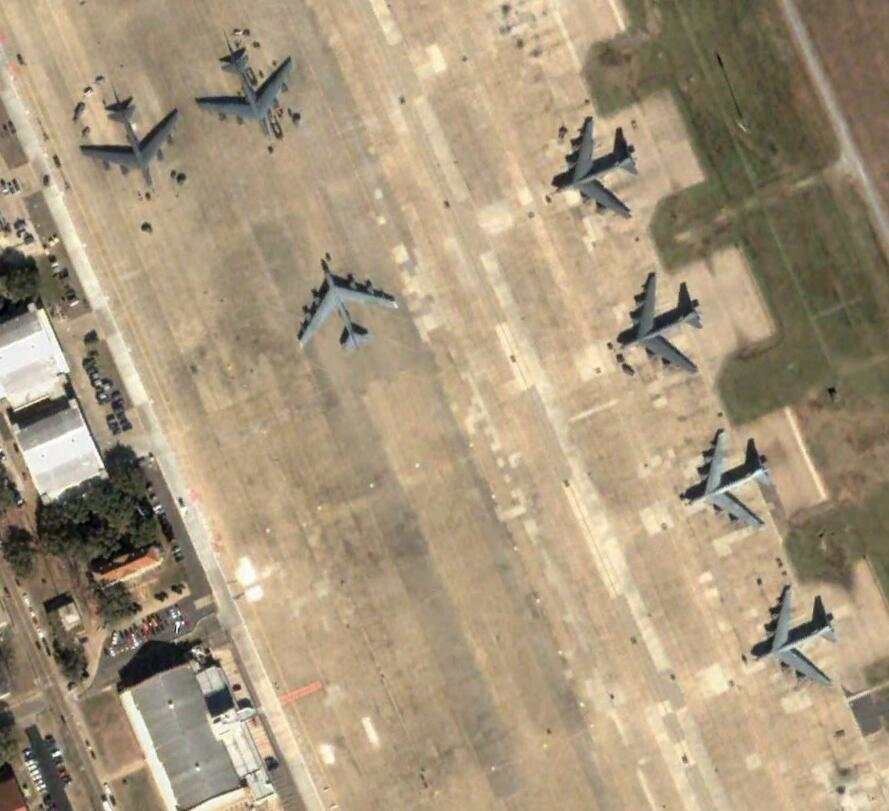A8: (292, 259, 404, 365), (193, 31, 296, 138), (614, 268, 710, 379), (752, 576, 844, 690), (544, 117, 643, 221), (679, 425, 774, 533), (81, 97, 183, 189)
